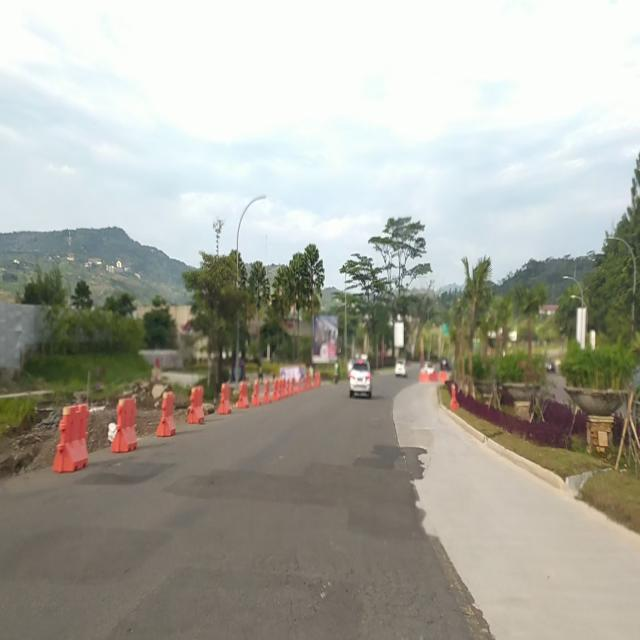Drain Hole: (166, 545, 443, 639)
